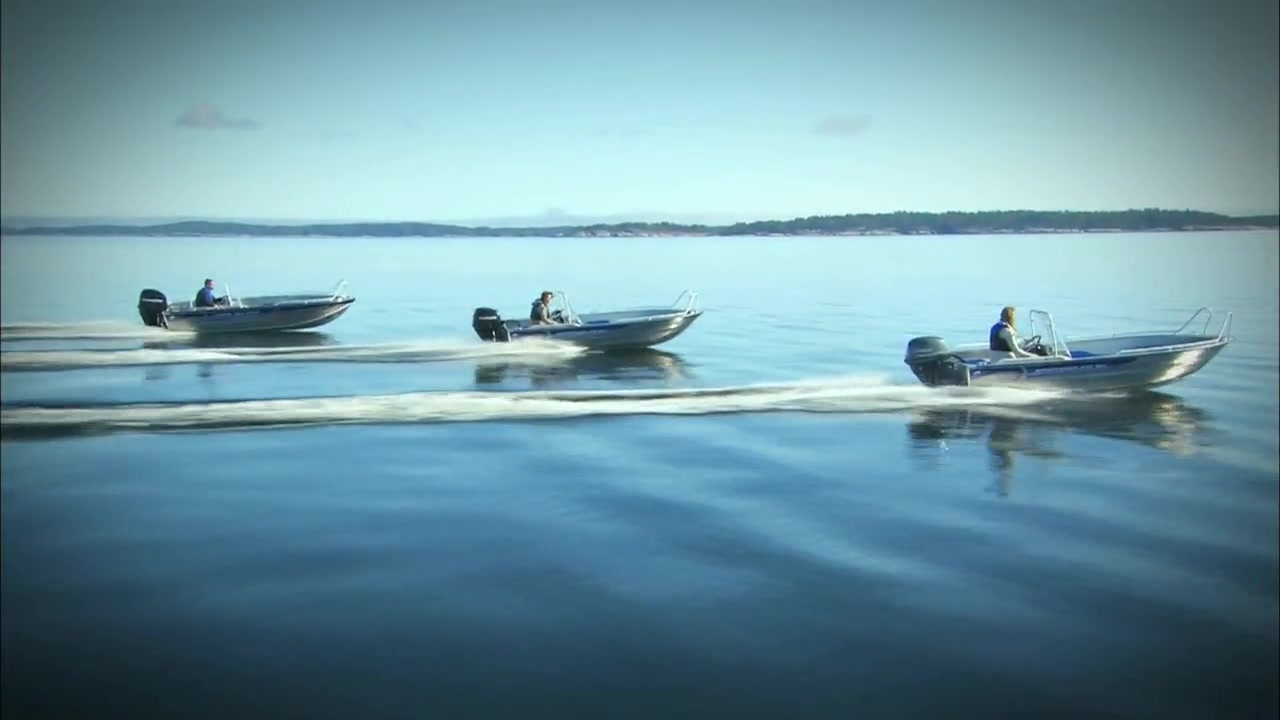boat: (470, 286, 710, 356)
